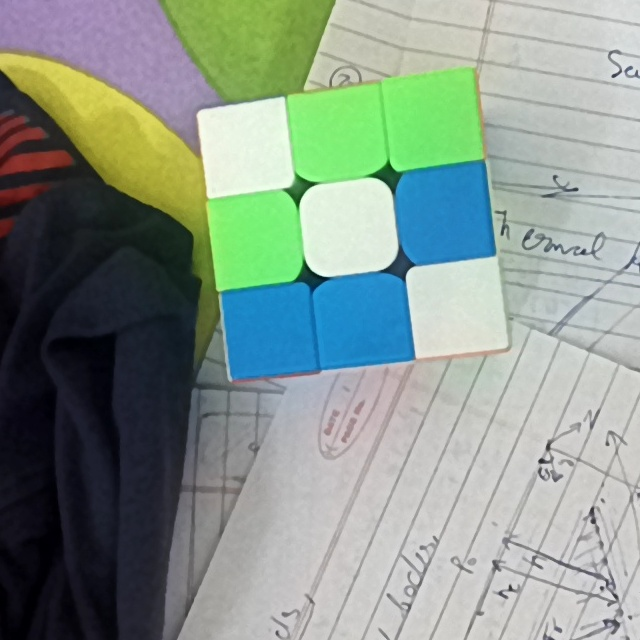tile: (415, 268, 498, 345), (207, 108, 285, 186), (216, 204, 295, 280), (227, 294, 307, 368), (393, 82, 472, 156), (405, 179, 485, 252), (322, 285, 403, 357), (307, 195, 391, 263), (300, 96, 376, 170)
